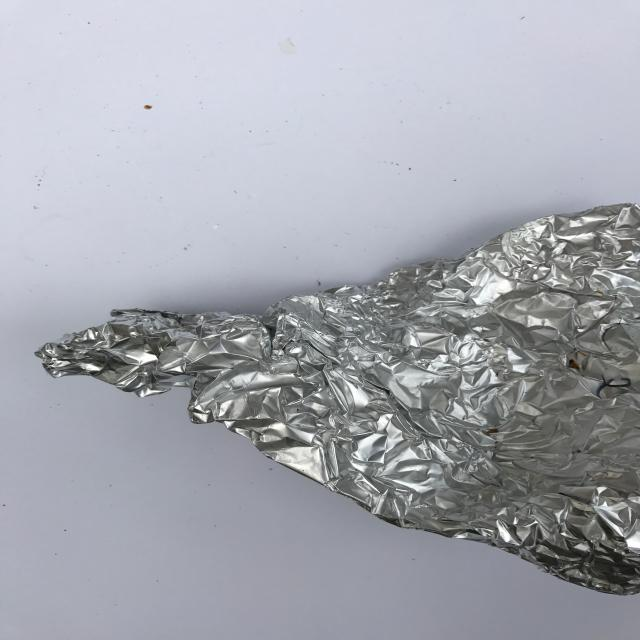metal: (34, 202, 639, 596)
